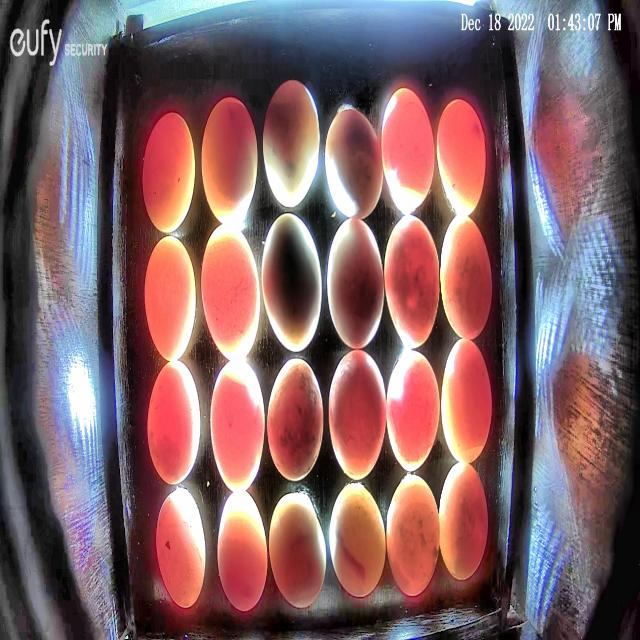DE: (200, 227, 262, 363), (262, 213, 322, 351), (327, 349, 386, 480), (261, 79, 319, 209), (327, 217, 384, 349), (384, 215, 440, 348), (201, 95, 258, 224), (210, 360, 264, 495), (267, 357, 324, 482), (147, 361, 201, 485), (386, 474, 440, 598), (141, 110, 195, 233), (269, 493, 326, 609), (144, 235, 196, 362), (439, 214, 492, 338), (329, 483, 386, 598), (387, 349, 439, 473), (441, 338, 491, 466), (217, 488, 268, 613), (325, 109, 383, 218), (383, 88, 434, 211), (155, 488, 206, 609), (439, 463, 488, 579), (437, 98, 485, 214)
